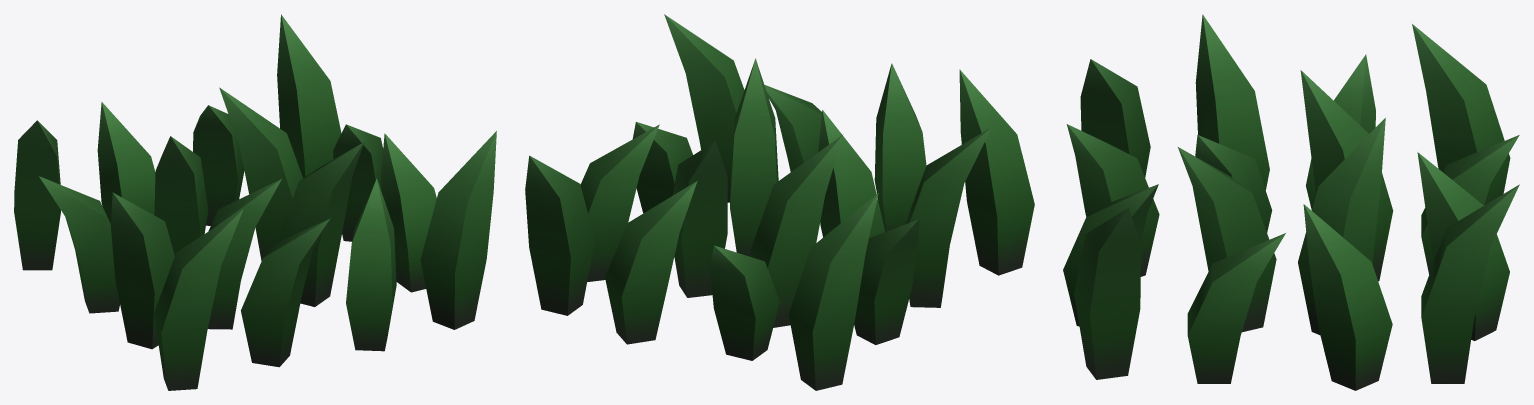
Rendered from deco_winter_grass.FBX.
The picture shows the model from 3 angles, left to right: view 1: azimuth 30°, elevation 25°; view 2: azimuth 150°, elevation 25°; view 3: azimuth 270°, elevation 25°; orthographic projection. The views are drawn at different scales.
Visible parts, largest first — view 1: deco_winter_grass; view 2: deco_winter_grass; view 3: deco_winter_grass.
Part boxes in pixels (x1,y1,x2,y2): deco_winter_grass: (14, 14, 496, 390); deco_winter_grass: (525, 14, 1034, 390); deco_winter_grass: (1063, 14, 1519, 390).
Bounding box in the file's own units: 1.97 × 0.91 × 1.96.
1 material, 1 textured.
